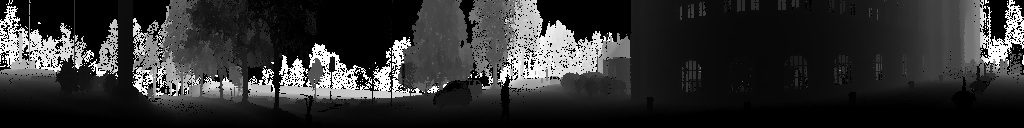car: (433, 79, 472, 109), (458, 79, 484, 96), (549, 75, 564, 87)
person: (500, 75, 510, 128), (539, 78, 545, 89), (147, 87, 150, 102), (150, 88, 153, 102)
